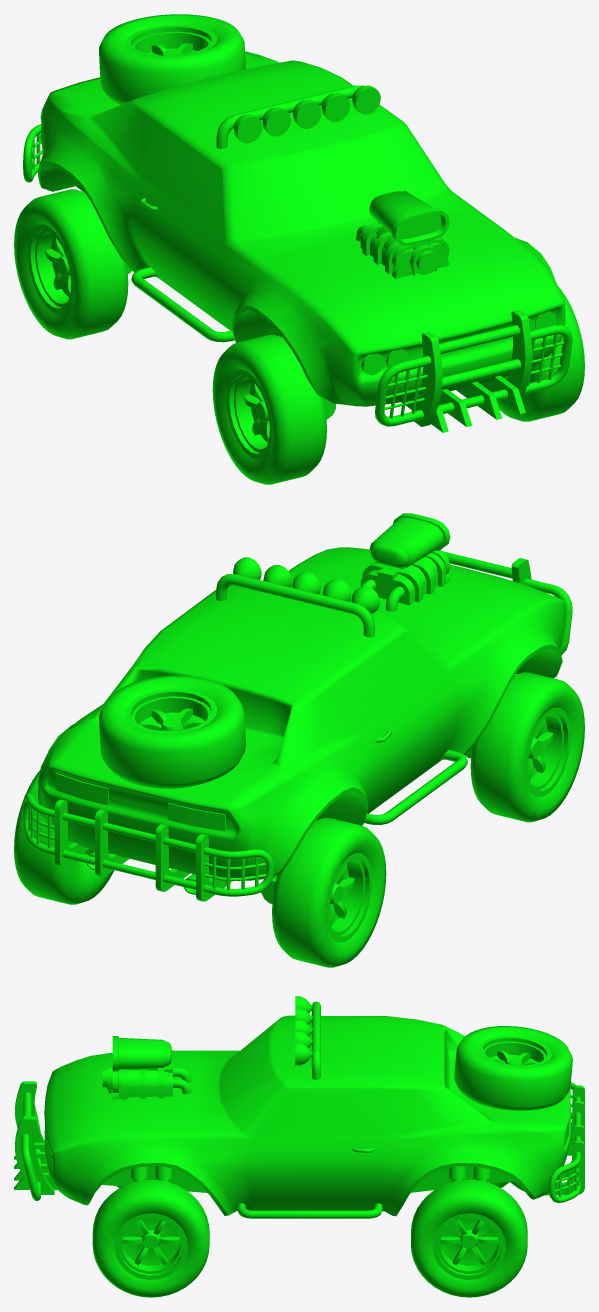
File: Car_01.fbx
3 renders of one model, top to bottom at view 1: azimuth 30°, elevation 25°; view 2: azimuth 150°, elevation 25°; view 3: azimuth 270°, elevation 25°, orthographic. The views are drawn at different scales.
Visible parts, largest first — view 1: Car_Body_02, Shield, FR, RR, Engine, FL, Shiled_02; view 2: Car_Body_02, Shield, RR, FR, Engine, RL, Shiled_02; view 3: Car_Body_02, Shield, FL, RL, Engine, Shiled_02.
Boxes of the visible parts, x1,y1,x2,y2 form: Car_Body_02: (38, 51, 565, 419); Shield: (23, 14, 572, 432); FR: (212, 334, 326, 484); RR: (14, 189, 128, 339); Engine: (356, 191, 449, 278); FL: (497, 285, 584, 421); Shiled_02: (131, 267, 234, 342); Car_Body_02: (38, 547, 565, 903); Shield: (23, 550, 572, 901); RR: (272, 817, 386, 967); FR: (470, 672, 584, 822); Engine: (360, 513, 450, 611); RL: (14, 770, 114, 904); Shiled_02: (364, 750, 467, 824); Car_Body_02: (44, 1015, 570, 1216); Shield: (14, 996, 584, 1202); FL: (92, 1179, 209, 1297); RL: (411, 1179, 527, 1297); Engine: (102, 1036, 191, 1099); Shiled_02: (237, 1203, 382, 1218).
Size of the model in its own units: 290 by 580 by 247.
